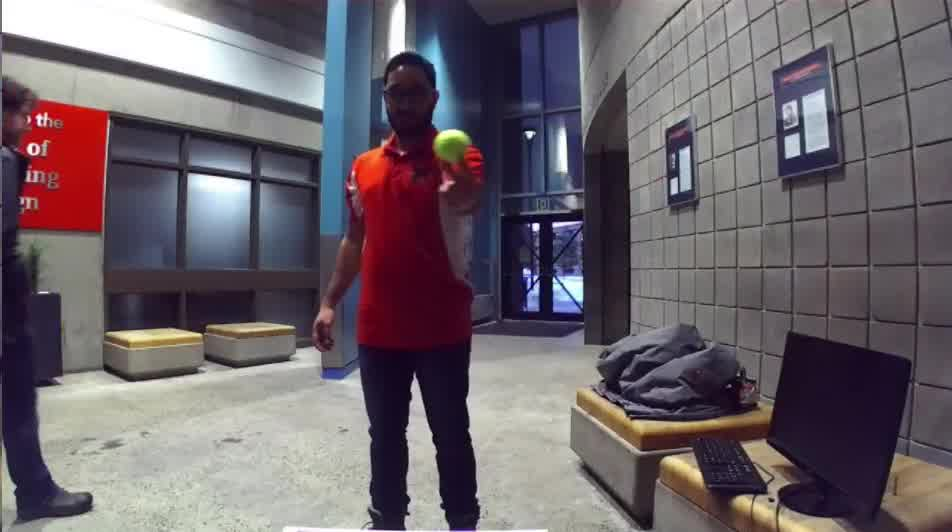tennis_ball: (431, 128, 473, 164)
